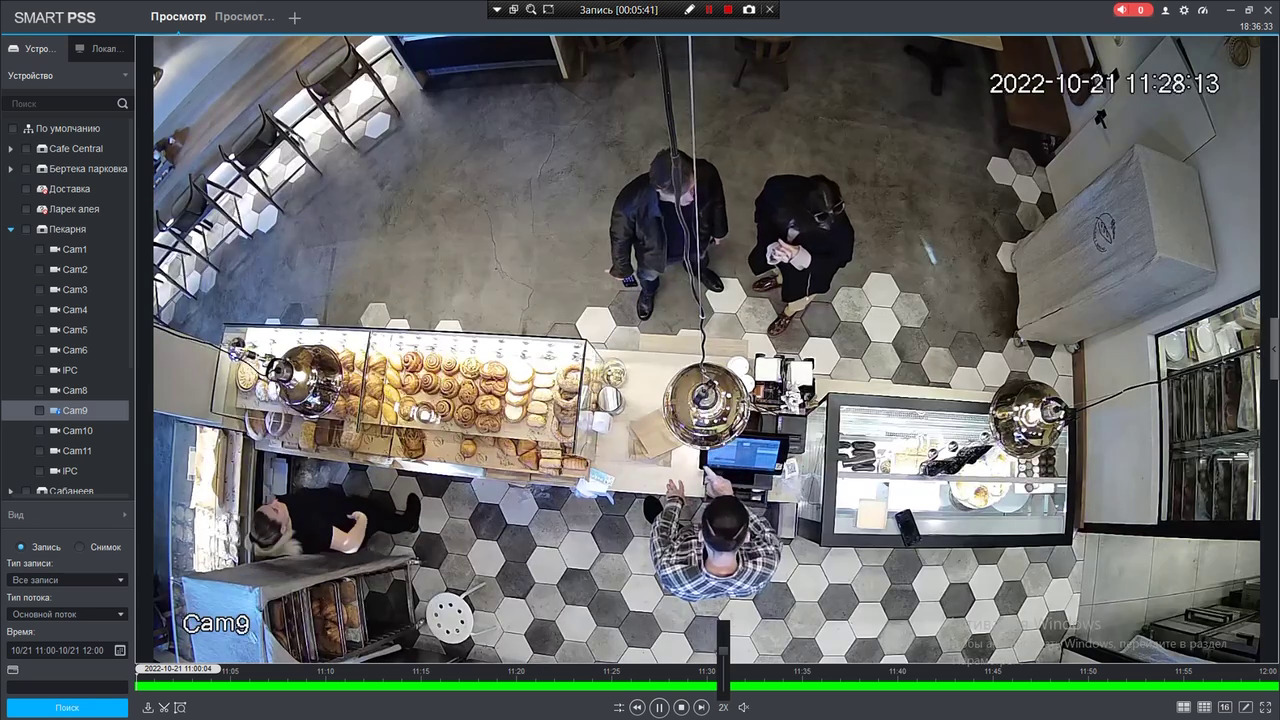barcounter: (224, 312, 1078, 541)
pack: (625, 413, 676, 458)
person: (603, 149, 730, 323), (748, 167, 854, 328), (653, 496, 775, 596), (244, 487, 423, 553)
